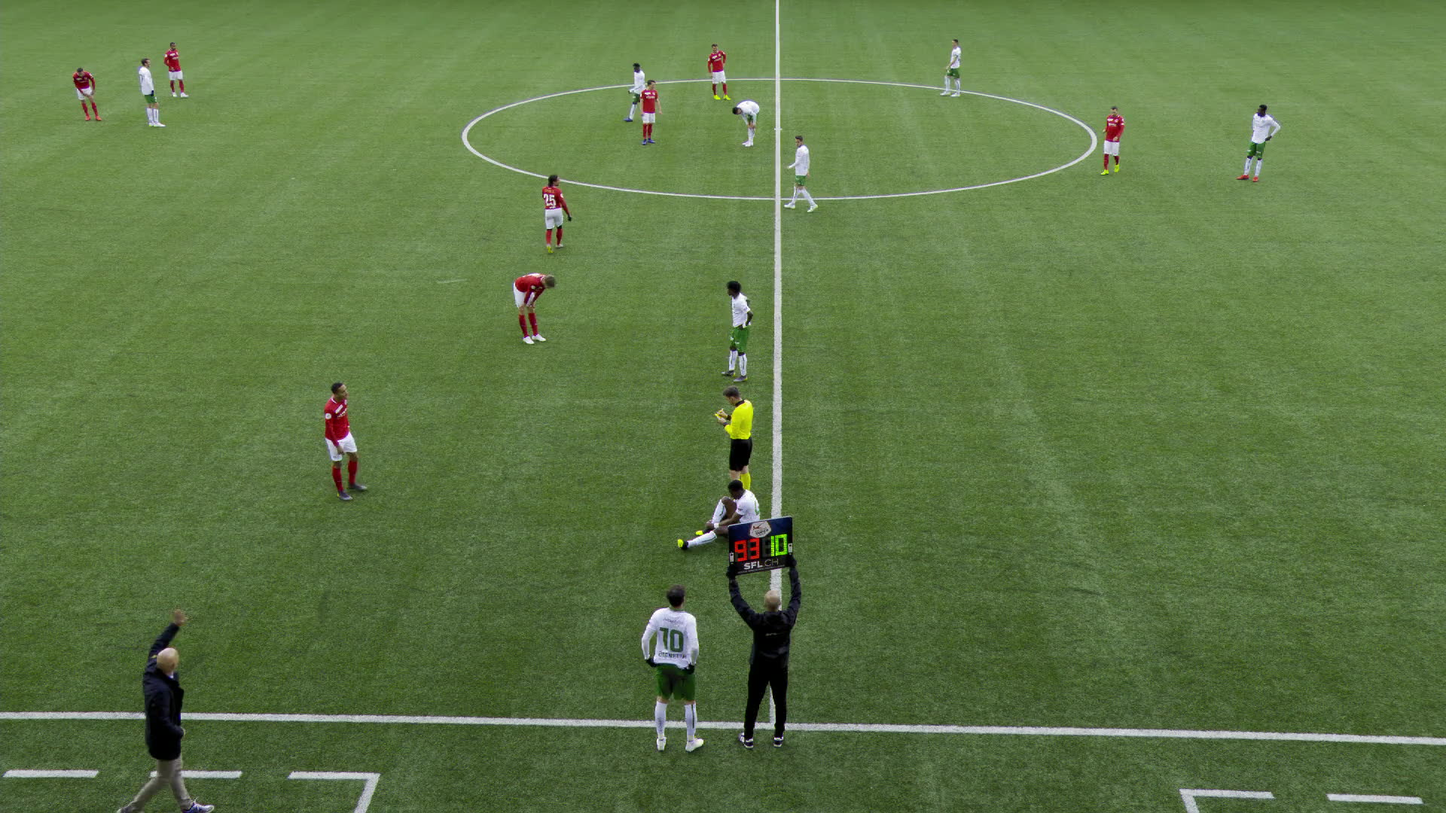player: (636, 582, 708, 756), (676, 478, 762, 552), (321, 379, 367, 504), (718, 279, 756, 385), (1233, 102, 1282, 184), (510, 269, 556, 345), (538, 172, 573, 254), (783, 132, 816, 213), (1095, 104, 1126, 176), (135, 56, 165, 129), (702, 41, 734, 102), (636, 78, 664, 145), (938, 38, 966, 98), (71, 67, 102, 121), (161, 40, 189, 99), (625, 61, 651, 123), (731, 99, 761, 148)
referee: (711, 385, 755, 505)
